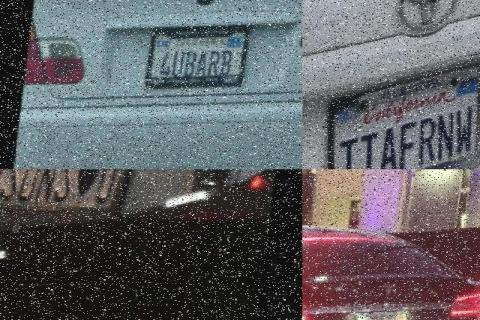LicensePlate: (332, 66, 478, 168), (0, 170, 135, 234), (150, 28, 250, 90), (357, 311, 412, 319)
